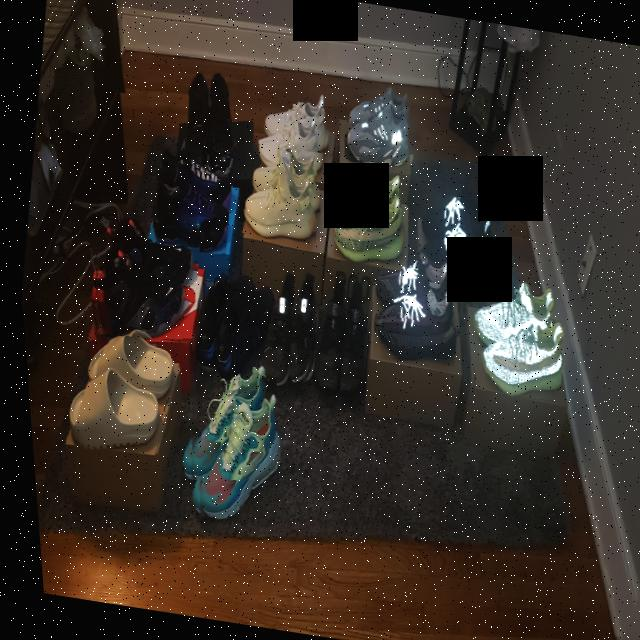shoe: (75, 214, 205, 348), (176, 389, 286, 528), (456, 276, 571, 406), (168, 358, 268, 488), (138, 158, 235, 260), (233, 143, 326, 245), (361, 276, 461, 368), (184, 262, 255, 384), (201, 276, 277, 383), (250, 87, 335, 175), (321, 188, 408, 271), (246, 268, 299, 391), (273, 269, 325, 392), (301, 276, 351, 398), (151, 148, 237, 218), (326, 282, 377, 399), (193, 74, 247, 182), (368, 246, 451, 316), (327, 158, 407, 228), (172, 66, 221, 174), (340, 98, 413, 166), (344, 82, 413, 136)
